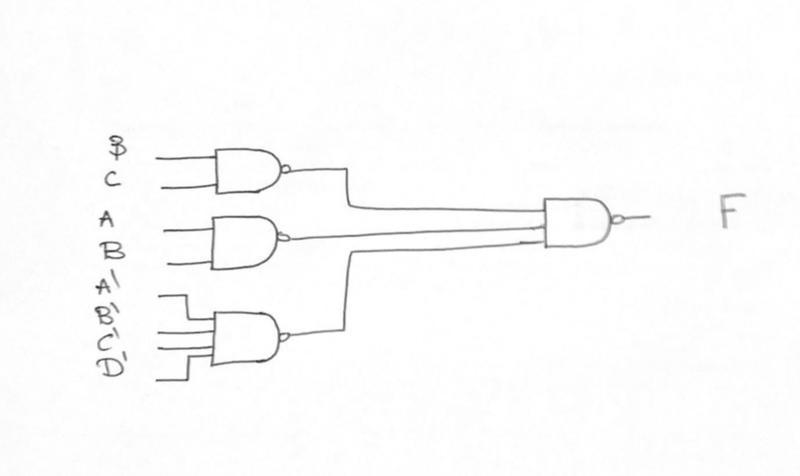NAND: (529, 184, 636, 265), (202, 304, 304, 374), (205, 212, 299, 278), (212, 139, 306, 201)
